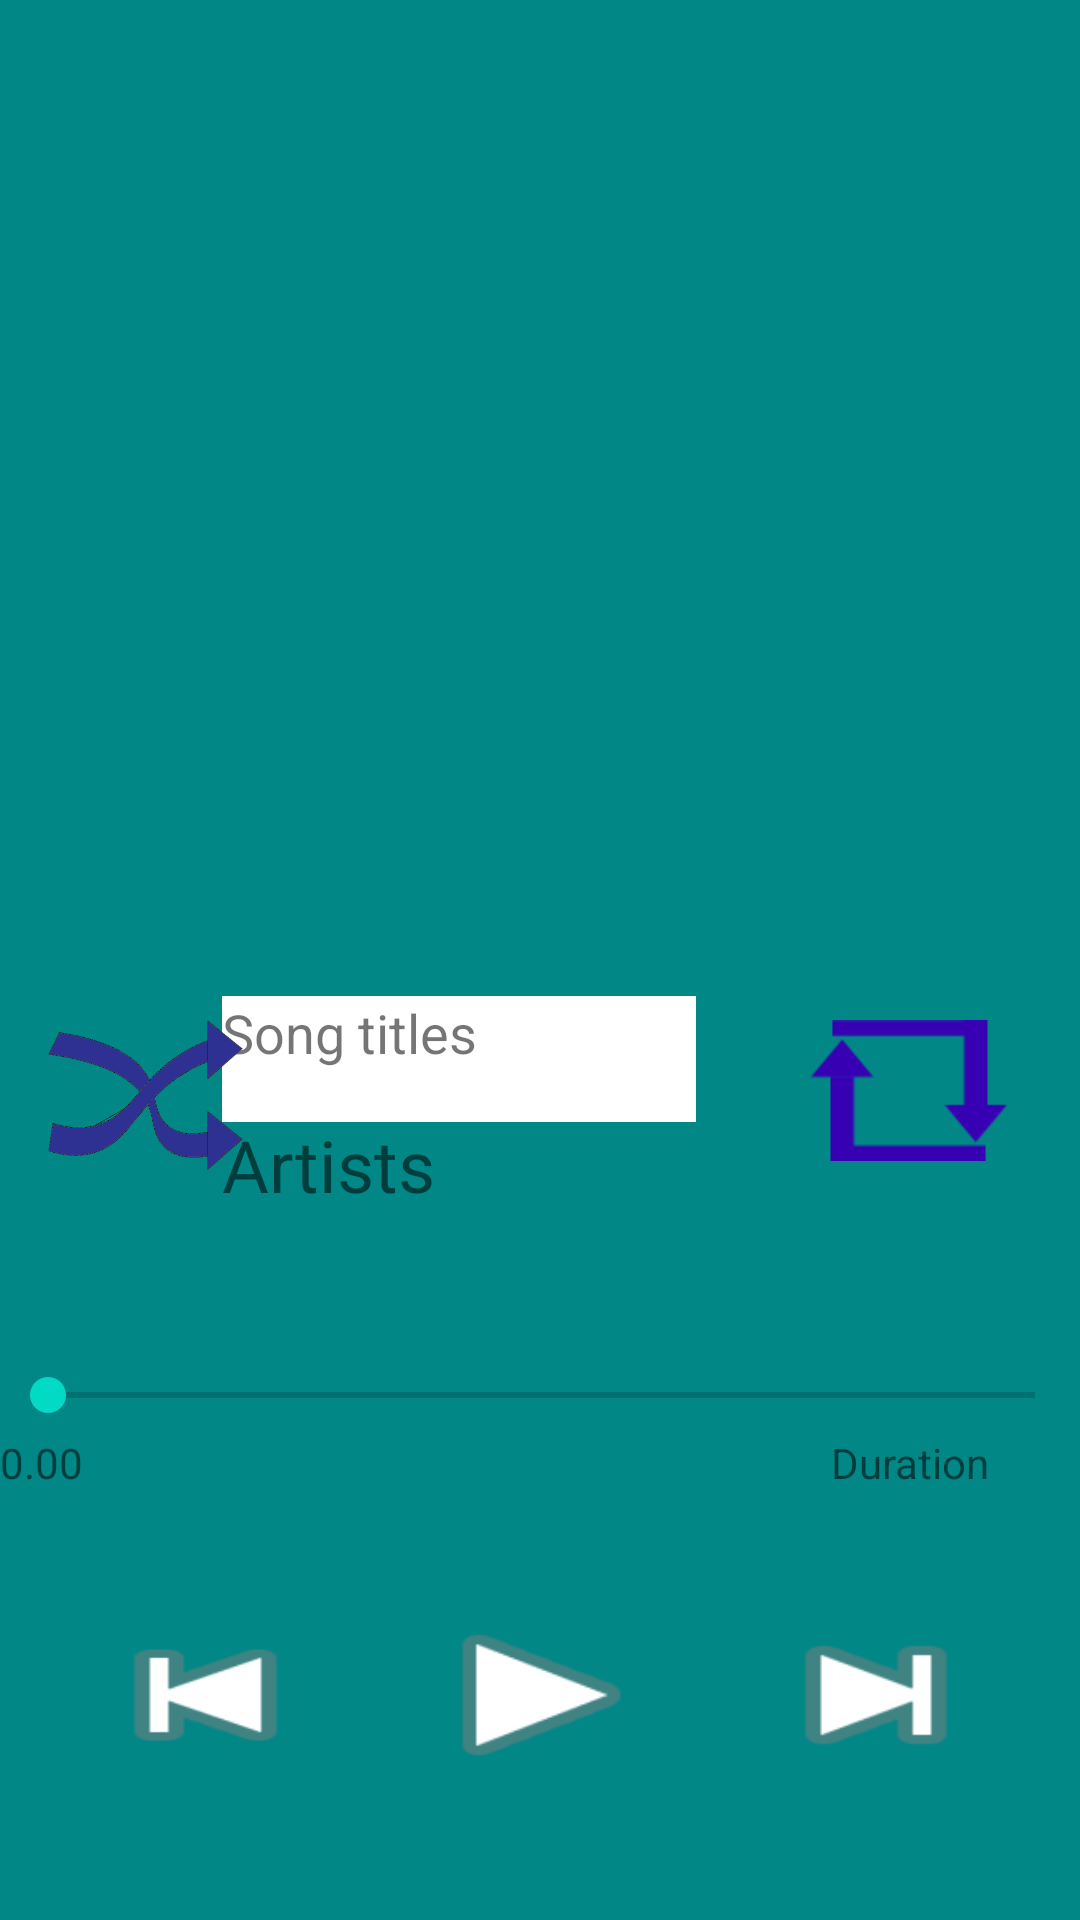

Named icons in this screenshot (1080*1920) and their centers, (x,y):
next: (876,1695)
play: (541,1695)
previous: (205,1695)
repeated off: (909,1090)
shuffle off: (145,1095)
